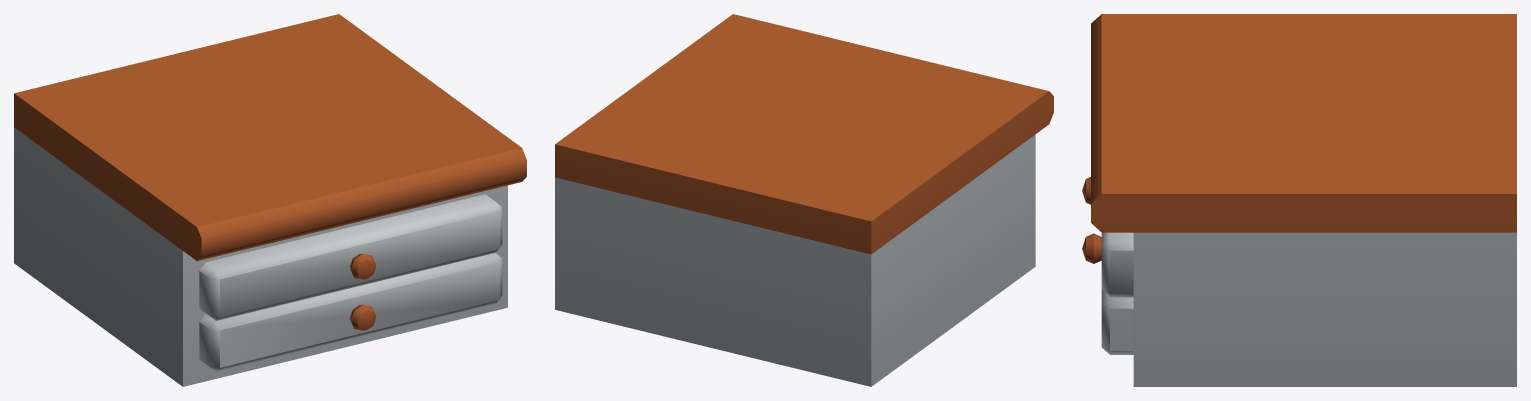
Rendered from kitchencounter_straight_A.glb.
3 renders of one model, left to right at view 1: azimuth 30°, elevation 25°; view 2: azimuth 150°, elevation 25°; view 3: azimuth 270°, elevation 25°, orthographic. The views are drawn at different scales.
Visible parts, largest first — view 1: kitchencounter_straight_A; view 2: kitchencounter_straight_A; view 3: kitchencounter_straight_A.
Boxes of the visible parts, left/top/right/bottom form: kitchencounter_straight_A: left=14, top=14, right=526, bottom=386; kitchencounter_straight_A: left=555, top=14, right=1053, bottom=386; kitchencounter_straight_A: left=1082, top=14, right=1516, bottom=386.
Size of the model in its own units: 2 by 0.9999 by 2.04.
